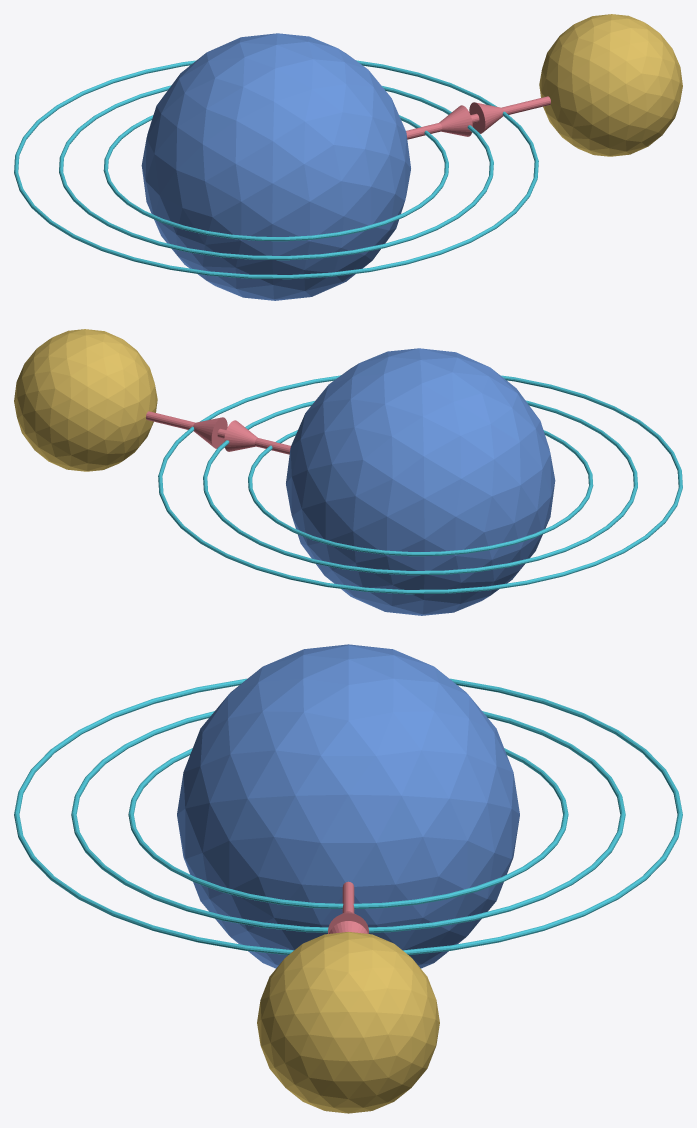
Rendered from universal-gravitation.glb.
The picture shows the model from 3 angles, top to bottom: view 1: azimuth 30°, elevation 25°; view 2: azimuth 150°, elevation 25°; view 3: azimuth 270°, elevation 25°; orthographic projection. The views are drawn at different scales.
Visible parts, largest first — view 1: primary_mass, secondary_mass, field_shell_1.45, field_shell_1.2, field_shell_0.95, force_on_secondary_head, force_on_primary_head, force_on_secondary_shaft; view 2: primary_mass, secondary_mass, field_shell_1.45, field_shell_1.2, field_shell_0.95, force_on_secondary_head, force_on_primary_head, force_on_secondary_shaft; view 3: primary_mass, secondary_mass, field_shell_1.45, field_shell_1.2, field_shell_0.95.
Part boxes in pixels (<box>): primary_mass: <box>141,33,410,300</box>; secondary_mass: <box>539,14,682,156</box>; field_shell_1.45: <box>14,60,538,279</box>; field_shell_1.2: <box>59,85,493,260</box>; field_shell_0.95: <box>103,115,448,241</box>; force_on_secondary_head: <box>439,105,472,136</box>; force_on_primary_head: <box>469,102,503,133</box>; force_on_secondary_shaft: <box>471,96,550,123</box>; primary_mass: <box>286,348,555,615</box>; secondary_mass: <box>14,329,157,471</box>; field_shell_1.45: <box>158,375,682,594</box>; field_shell_1.2: <box>203,400,637,575</box>; field_shell_0.95: <box>248,430,593,556</box>; force_on_secondary_head: <box>224,420,257,451</box>; force_on_primary_head: <box>193,417,227,448</box>; force_on_secondary_shaft: <box>146,411,224,438</box>; primary_mass: <box>177,644,519,968</box>; secondary_mass: <box>257,932,439,1113</box>; field_shell_1.45: <box>14,678,682,954</box>; field_shell_1.2: <box>71,711,625,932</box>; field_shell_0.95: <box>128,748,568,909</box>.
Bounding box in the file's own units: 4.01 × 1.5 × 2.92.
